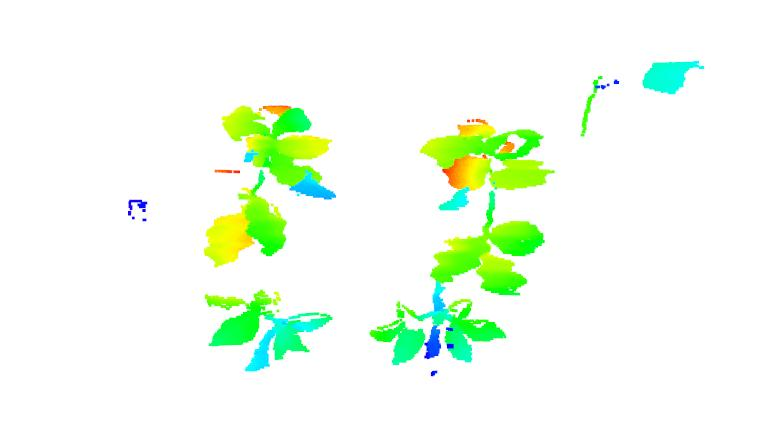mungbean: (416, 115, 557, 299), (201, 97, 333, 267), (369, 285, 509, 378), (199, 286, 332, 372)
